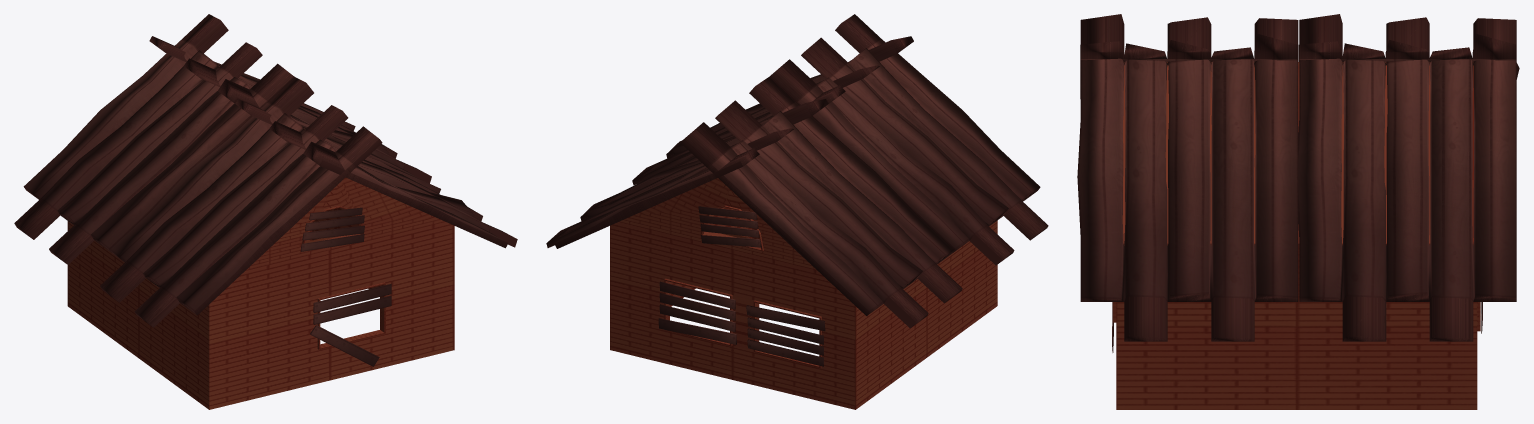
Rendered from lvl1_house (1).fbx.
3 views of the same model, side by side, from view 1: azimuth 30°, elevation 25°; view 2: azimuth 150°, elevation 25°; view 3: azimuth 270°, elevation 25° (orthographic). The views are drawn at different scales.
Parts seen in each view (by area): view 1: Cube.006; view 2: Cube.006; view 3: Cube.006.
Part boxes in pixels (x1=…): Cube.006: x1=14, y1=14, x2=517, y2=409; Cube.006: x1=546, y1=14, x2=1048, y2=409; Cube.006: x1=1077, y1=14, x2=1519, y2=409.
Size of the model in its own units: 449 by 290 by 364.
